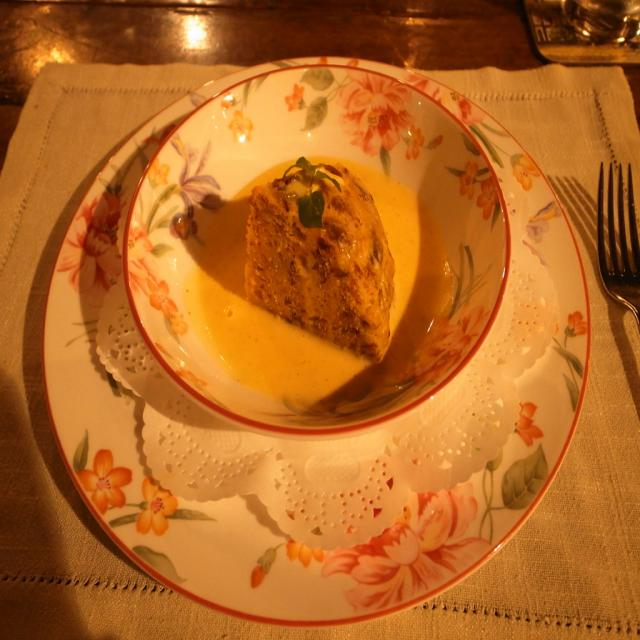non-organic waste: (38, 45, 594, 625)
